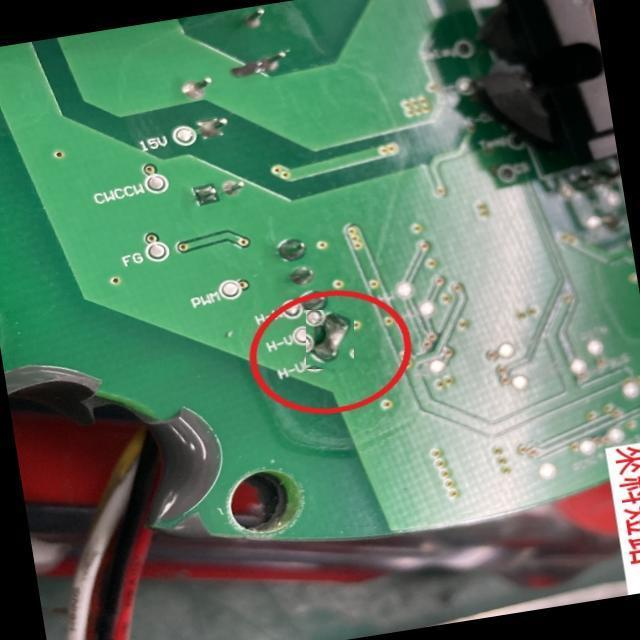damged: (306, 310, 354, 369)
